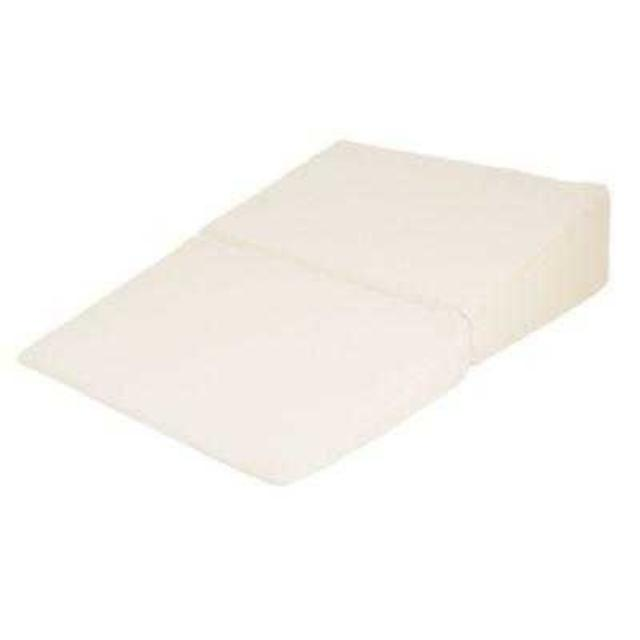pillow: (16, 134, 612, 486)
